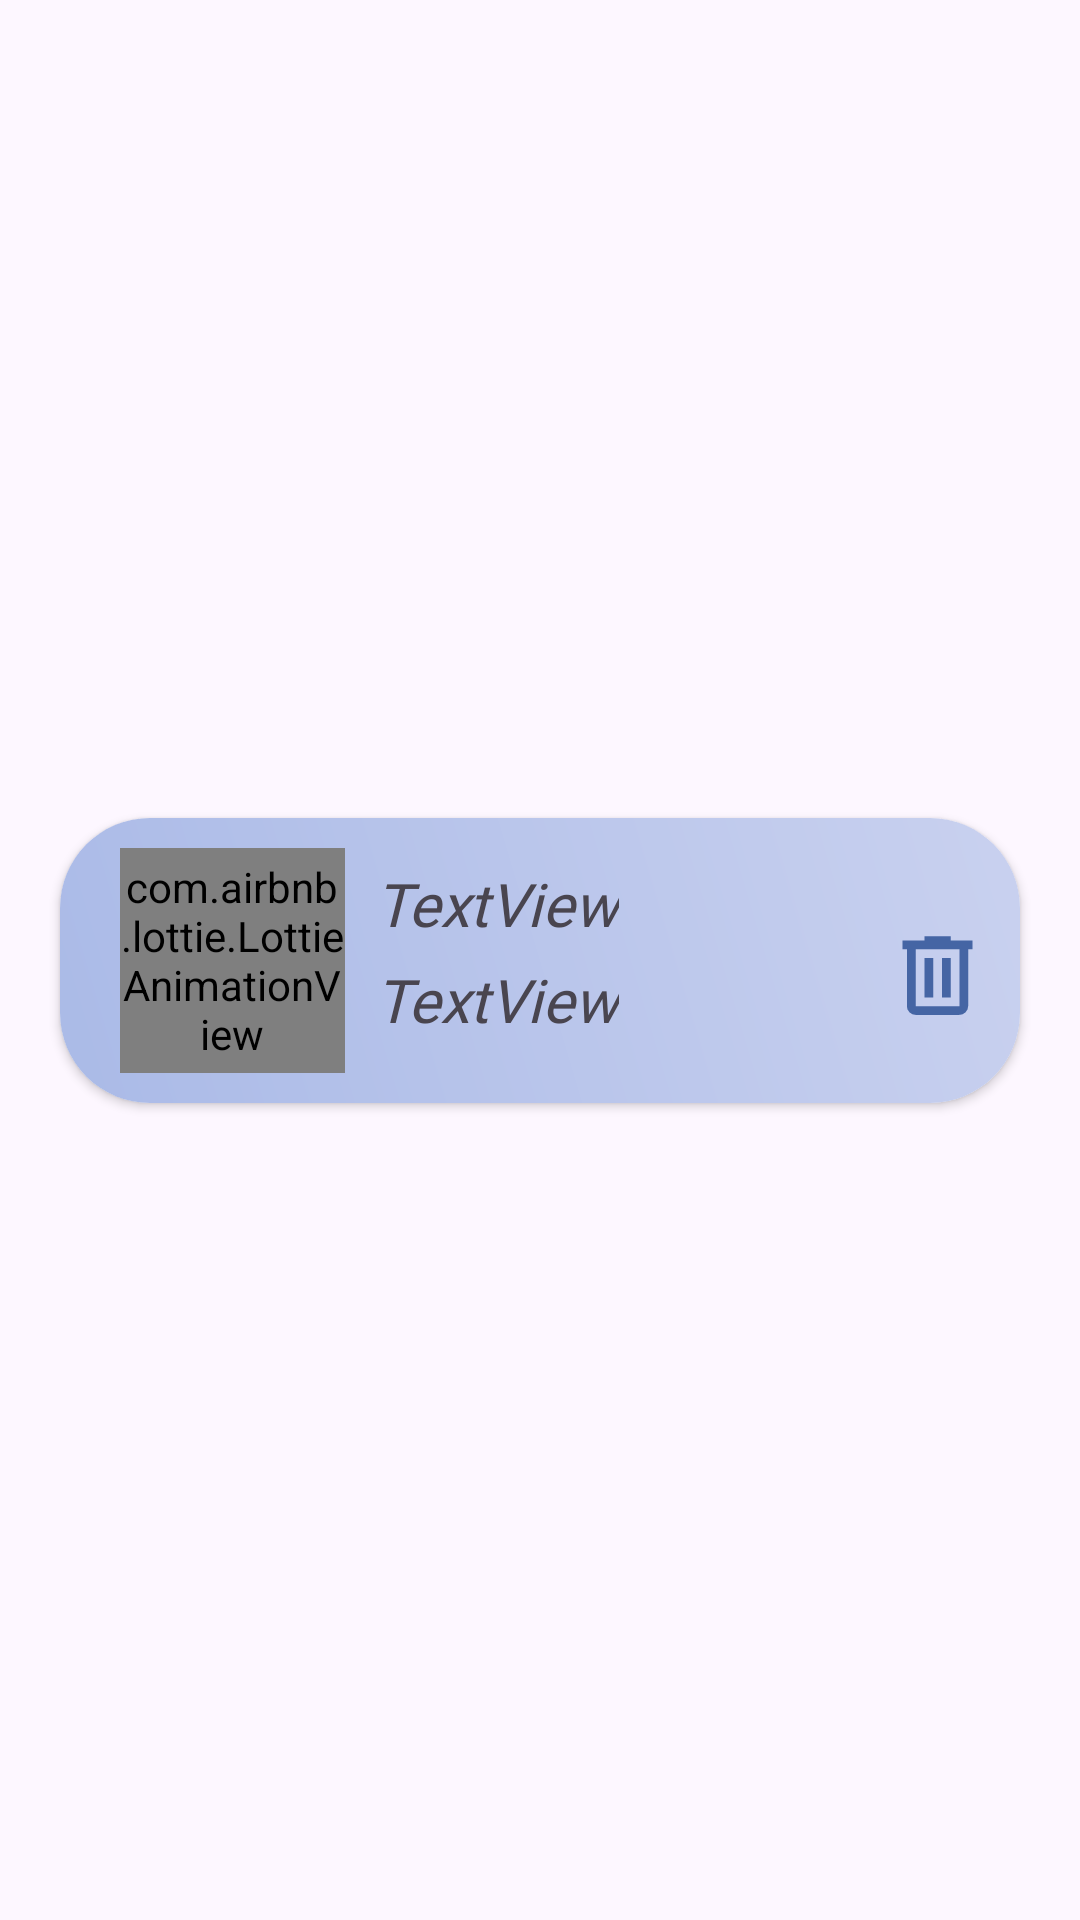

Point at icon controls on the screen. Image size 1080x1920, points as (x,y).
delete: (937,975)
